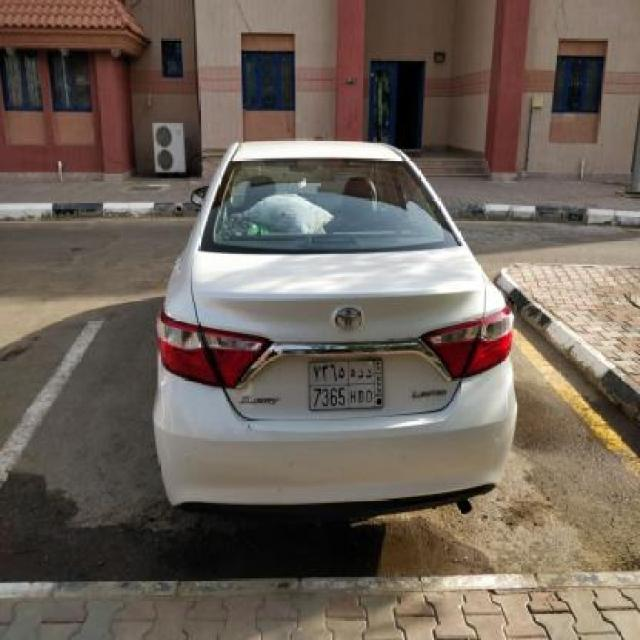license_plate: (307, 353, 385, 415)
